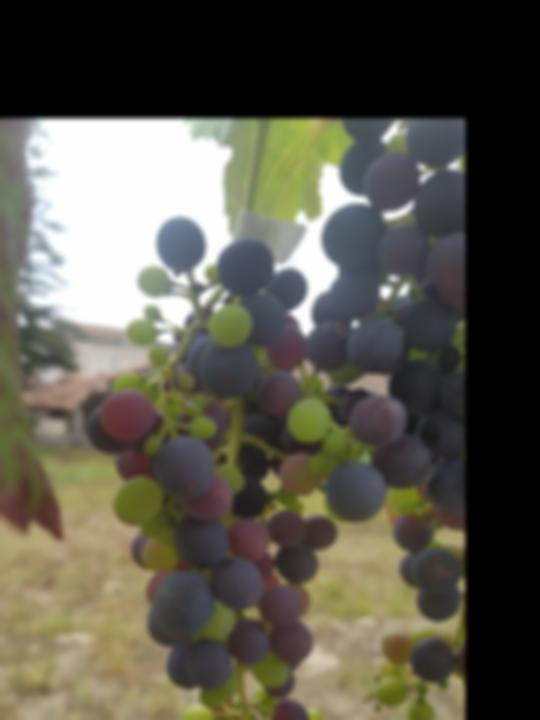grape: (83, 213, 437, 720)
